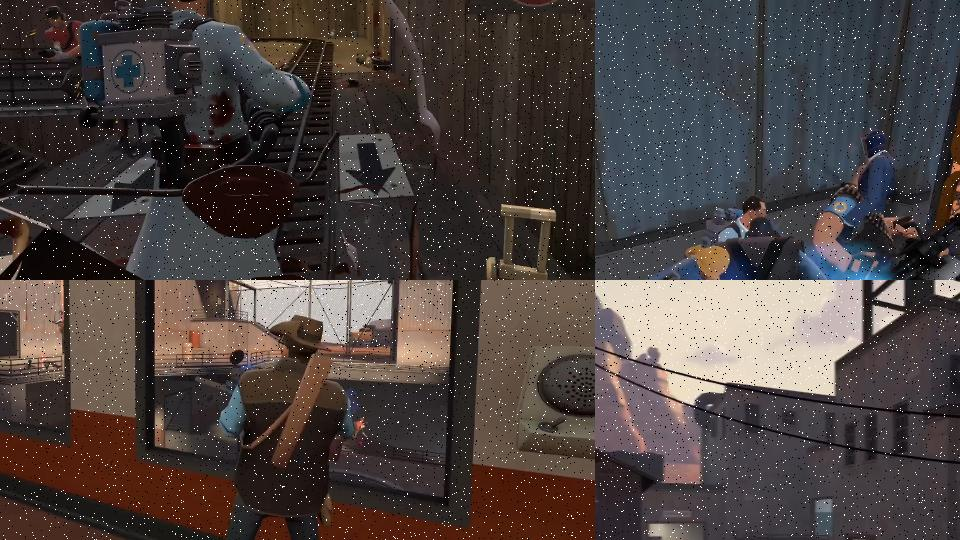Enemy: (78, 0, 315, 280), (192, 311, 362, 540), (681, 215, 833, 280), (846, 130, 899, 235), (37, 5, 86, 109), (632, 243, 731, 280), (700, 194, 770, 242)
